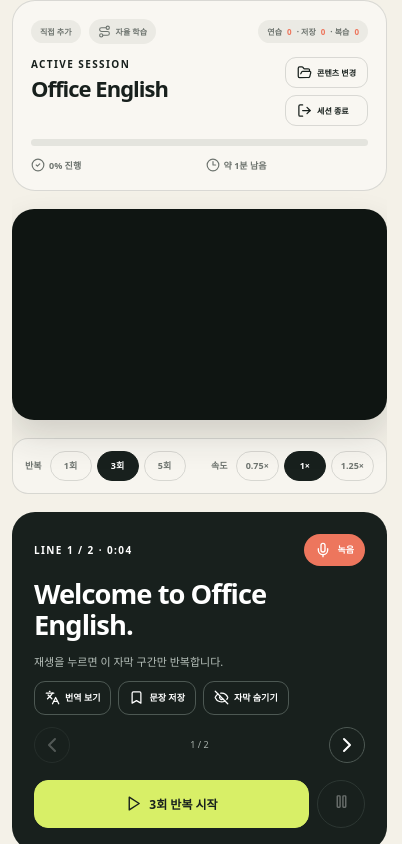
Test: YouTubePractice › changes the repeat count used by the selected line
Expected: the heading "Welcome to Office English." is shown, x1=34 y1=575 x2=266 y2=643
Click the button "5회" at (165, 466), box x1=144 y1=451 x2=186 y2=481
(page scrolled)
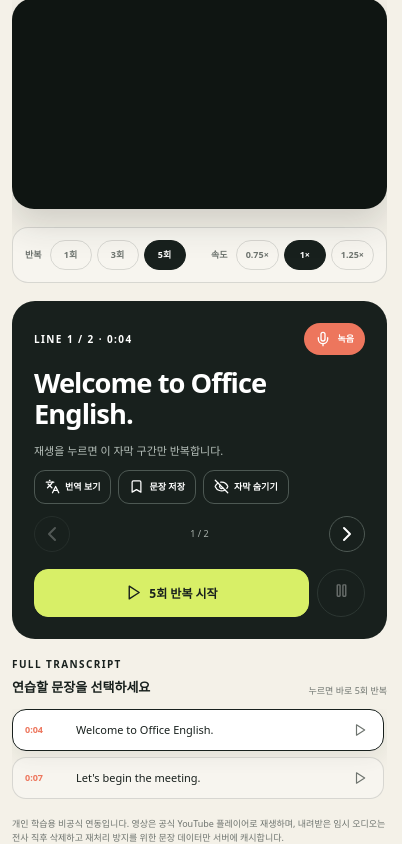
Expected: the button "5회 반복 시작" is shown, x1=34 y1=569 x2=309 y2=617
Expected: the text "누르면 바로 5회 반복" is shown, x1=309 y1=684 x2=387 y2=697
